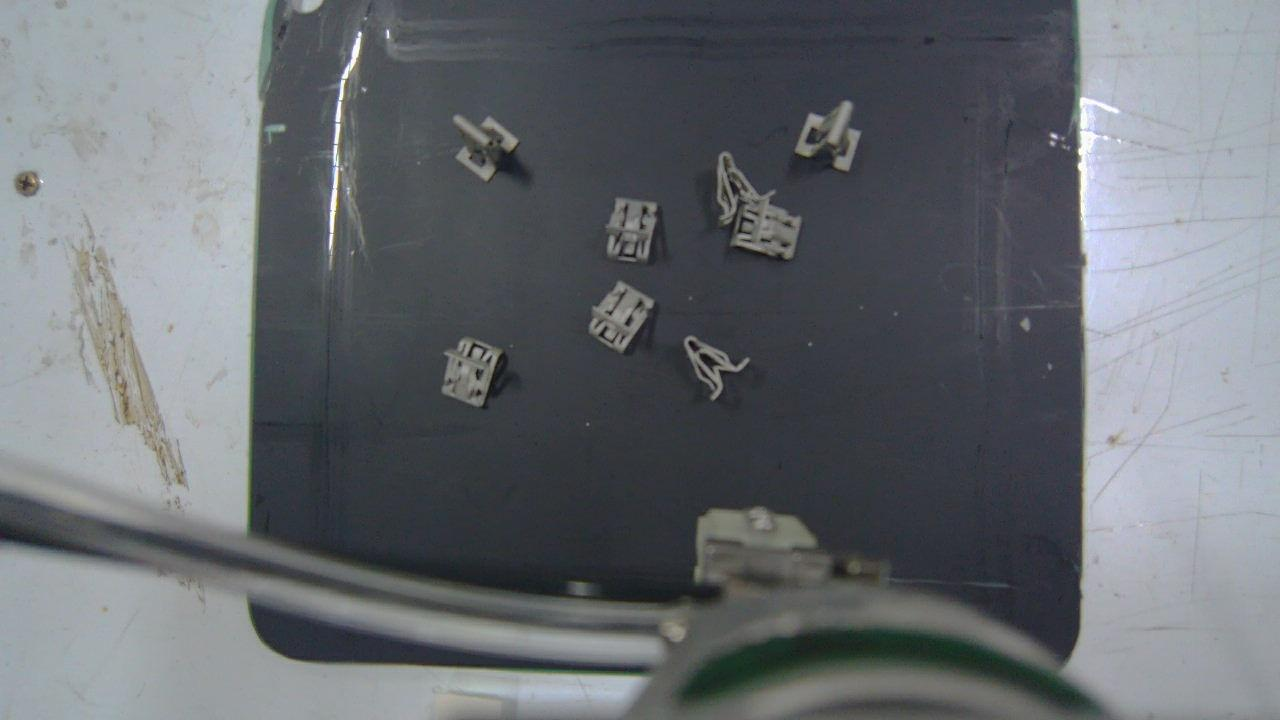ng: (438, 336, 505, 408), (589, 282, 654, 352), (730, 198, 803, 259), (717, 153, 776, 225), (685, 336, 750, 401), (605, 197, 659, 263)
pass: (794, 100, 861, 172), (452, 114, 520, 184)
